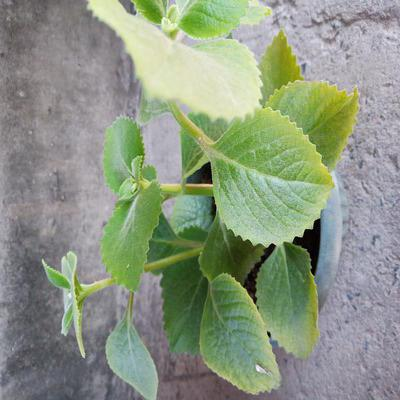Oregano: (64, 81, 335, 375)
